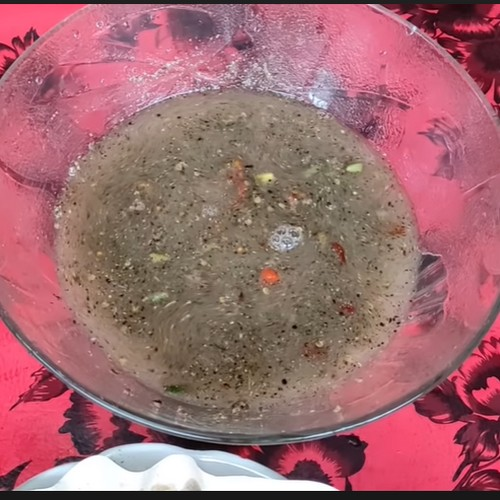komoh: (57, 78, 440, 403)
